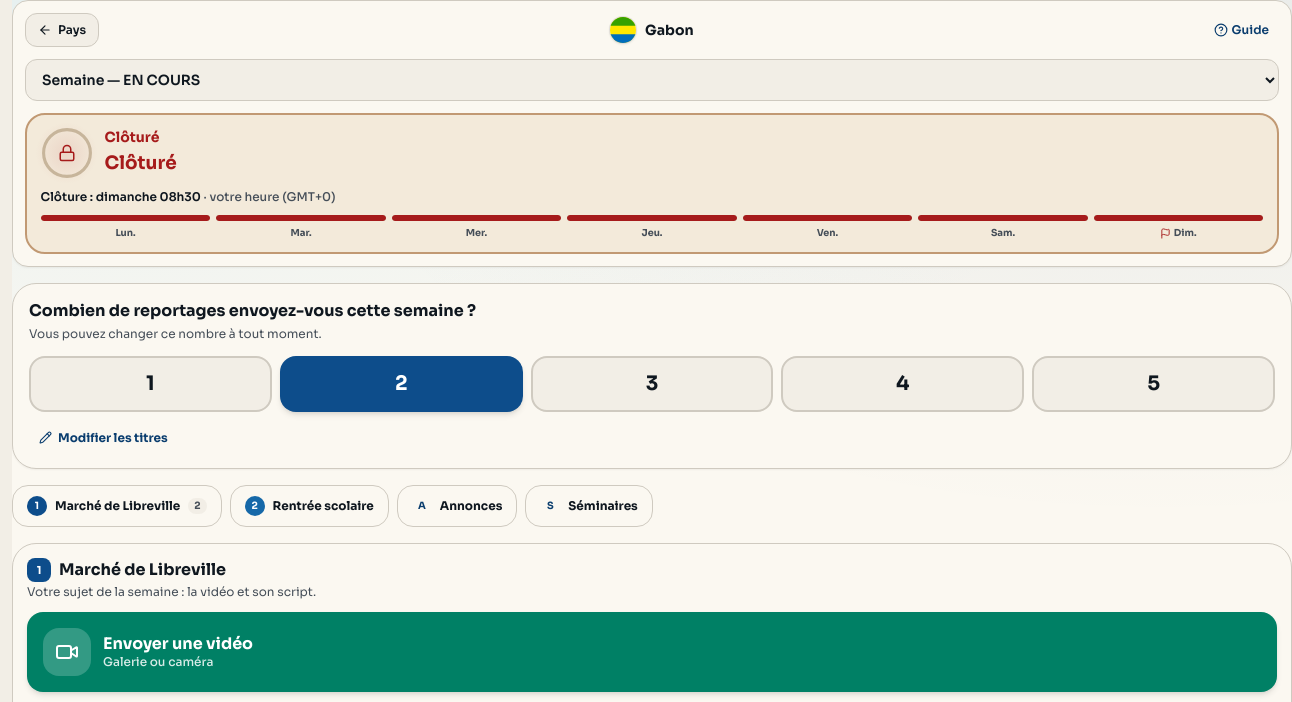
Scenario: MobileUploaderView — repères ajoutés › propose toutes les sections sans défilement caché
Expected: the button "A Annonces" is shown, [397,485,517,527]
Click the button "S Séminaires".
click(589, 506)  # box [525,485,653,527]
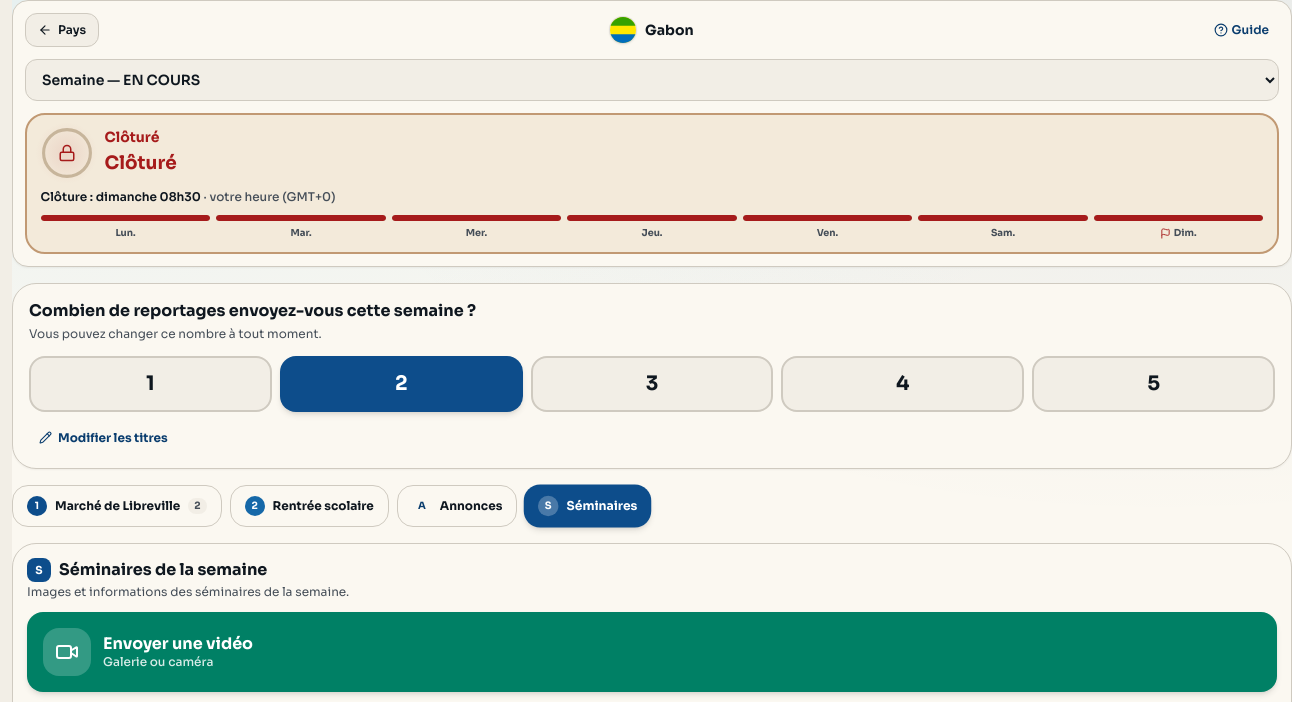
Expected: the text "Séminaires de la semaine" is shown, [59,558,267,582]
